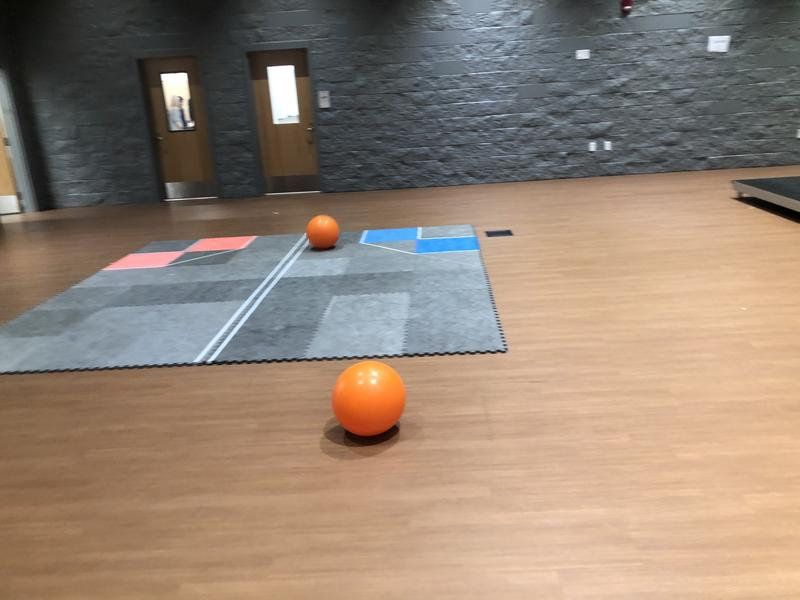ball: (332, 360, 405, 434), (307, 216, 339, 246)
